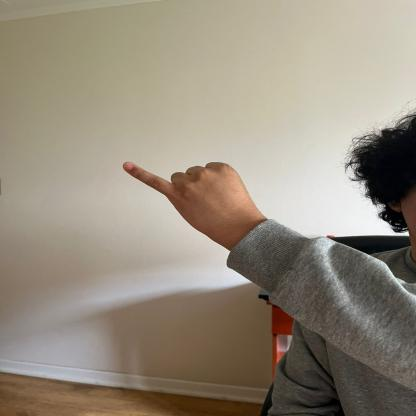J: (117, 152, 265, 244)
